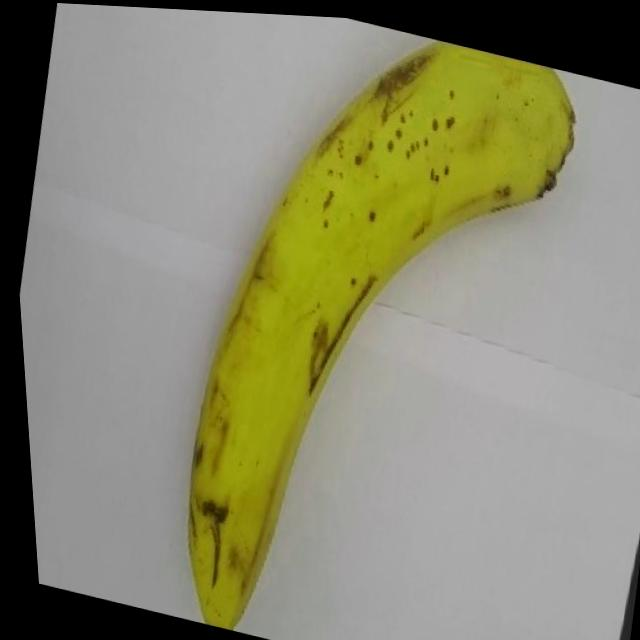Banana: (127, 5, 619, 640)
